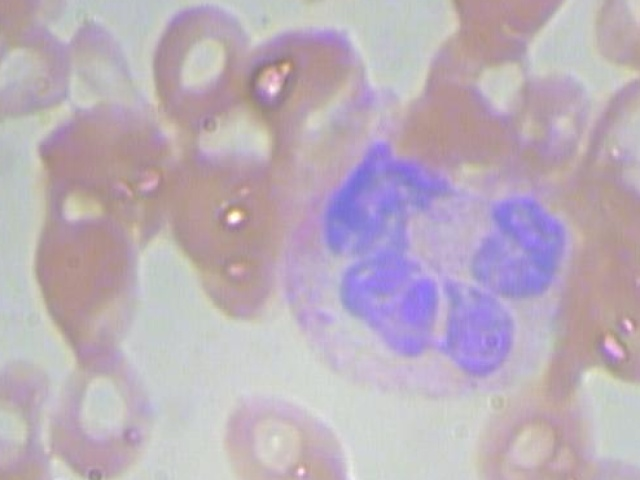RBC: (21, 216, 160, 353), (28, 89, 179, 215), (40, 351, 179, 480), (236, 16, 385, 132), (160, 131, 283, 270), (140, 0, 261, 132), (416, 14, 542, 135), (475, 373, 596, 480), (216, 387, 355, 480), (563, 71, 640, 208), (0, 7, 76, 115), (0, 347, 54, 480), (442, 0, 564, 46), (547, 455, 640, 480), (0, 447, 64, 480), (276, 0, 425, 7), (631, 0, 640, 84)
WBC: (276, 134, 577, 408)
